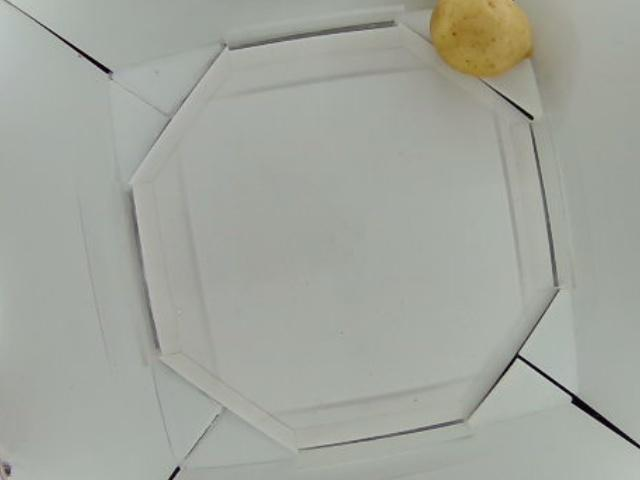Potato: (432, 1, 537, 79)
